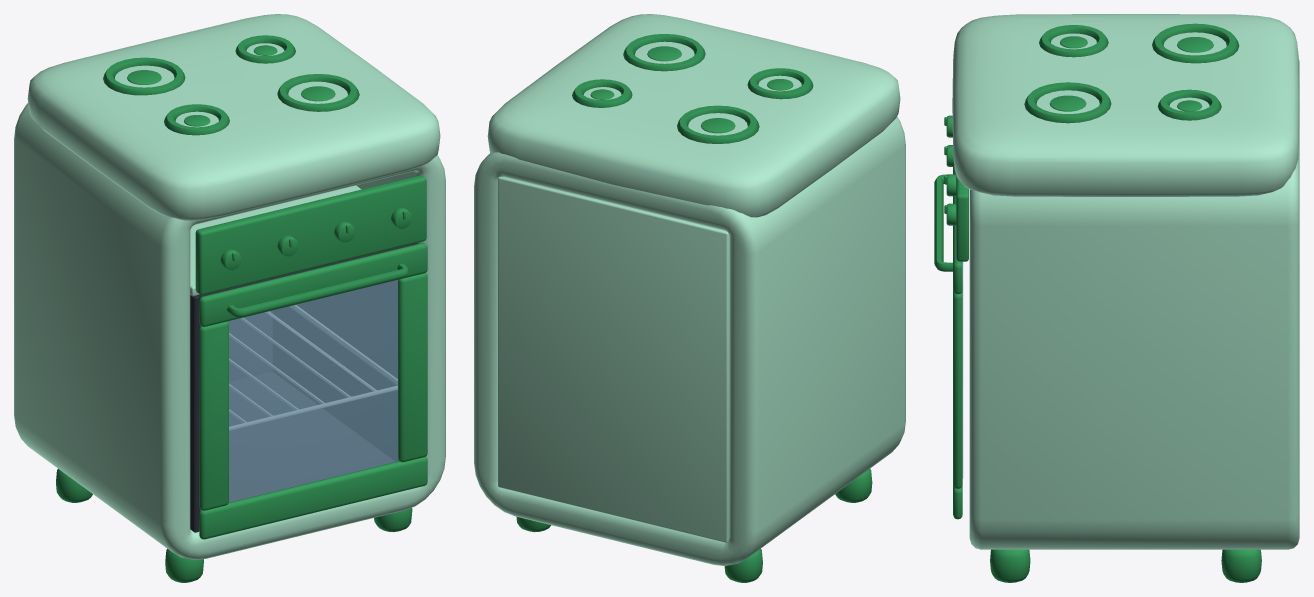
Rendered from fogao_retro_fofo_menta.glb.
3 views of the same model, side by side, from view 1: azimuth 30°, elevation 25°; view 2: azimuth 150°, elevation 25°; view 3: azimuth 270°, elevation 25° (orthographic). The views are drawn at different scales.
Visible parts, largest first — view 1: fogao_retro_fofo_menta, porta_forno; view 2: fogao_retro_fofo_menta; view 3: fogao_retro_fofo_menta, porta_forno.
Boxes of the visible parts, x1=… form: fogao_retro_fofo_menta: x1=14, y1=14, x2=445, y2=582; porta_forno: x1=199, y1=243, x2=427, y2=539; fogao_retro_fofo_menta: x1=474, y1=14, x2=905, y2=582; fogao_retro_fofo_menta: x1=944, y1=14, x2=1299, y2=582; porta_forno: x1=934, y1=167, x2=963, y2=519.
Size of the model in its own units: 0.6 by 0.8675 by 0.631.
2 materials, 1 textured.
